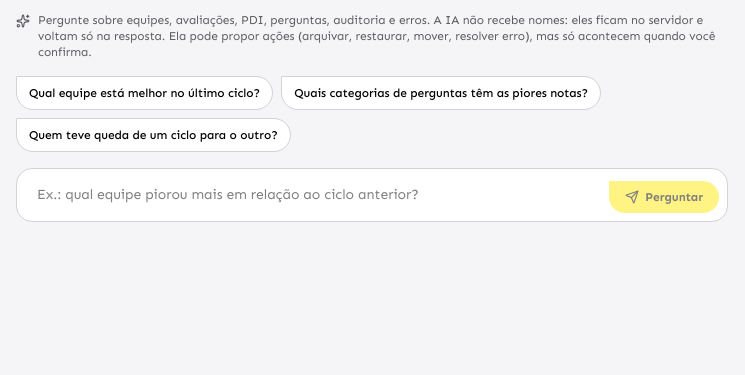
Test: AssistantView › cancelar não executa nada
Type "Resolva o erro 7" into the text box named "Pergunte sobre os dados" at (313, 195), box [25,177,601,213]
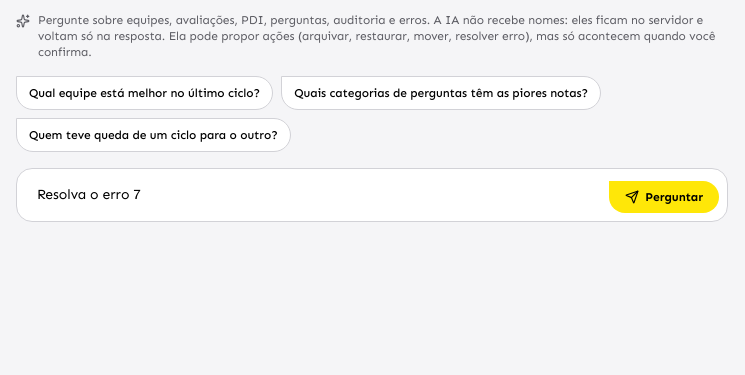
Click the button "Perguntar" at (664, 197), box [609,181,719,213]
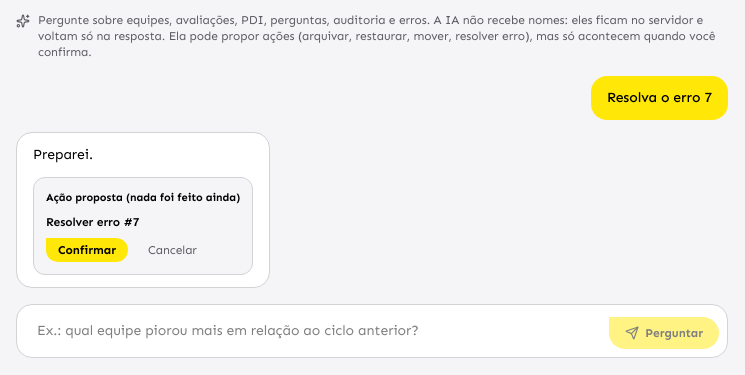
Now the text "Resolver erro #7" is shown, box [46,215,140,229]
Click the button "Cancelar" at (172, 250), box [136,238,209,262]
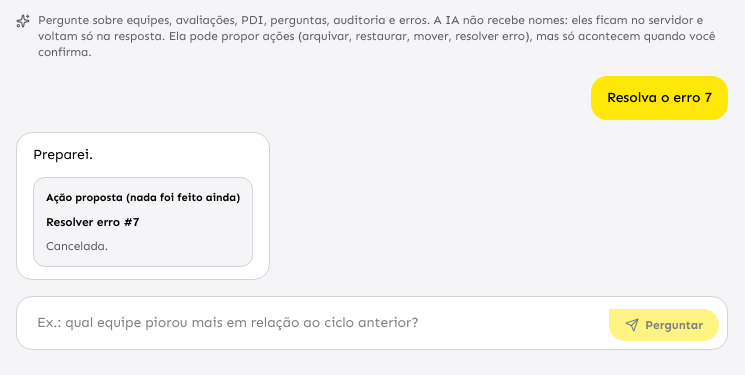
Now the text "Cancelada." is shown, box [46,239,108,253]
